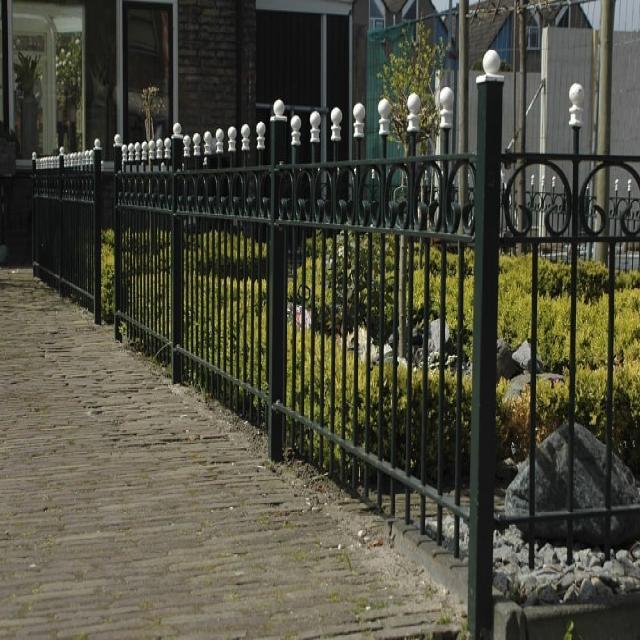fence line: (327, 98, 640, 617), (39, 141, 413, 506)
